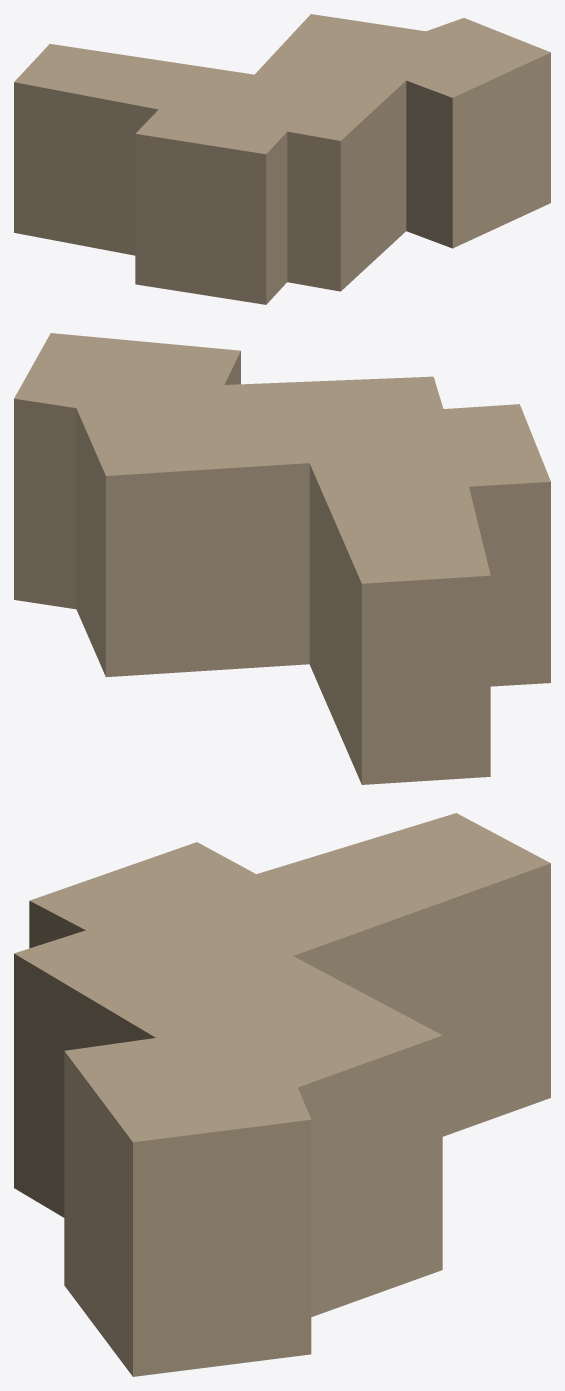
The model's file is bld_99007815.dae.
3 views of the same model, one above another, from view 1: azimuth 30°, elevation 25°; view 2: azimuth 150°, elevation 25°; view 3: azimuth 270°, elevation 25° (orthographic). The views are drawn at different scales.
Parts seen in each view (by area): view 1: bld_99007815; view 2: bld_99007815; view 3: bld_99007815.
Boxes of the visible parts, x1=… form: bld_99007815: x1=14, y1=14, x2=550, y2=304; bld_99007815: x1=14, y1=333, x2=550, y2=784; bld_99007815: x1=14, y1=813, x2=550, y2=1376.
Bounding box in the file's own units: 24.08 × 16.59 × 8.
